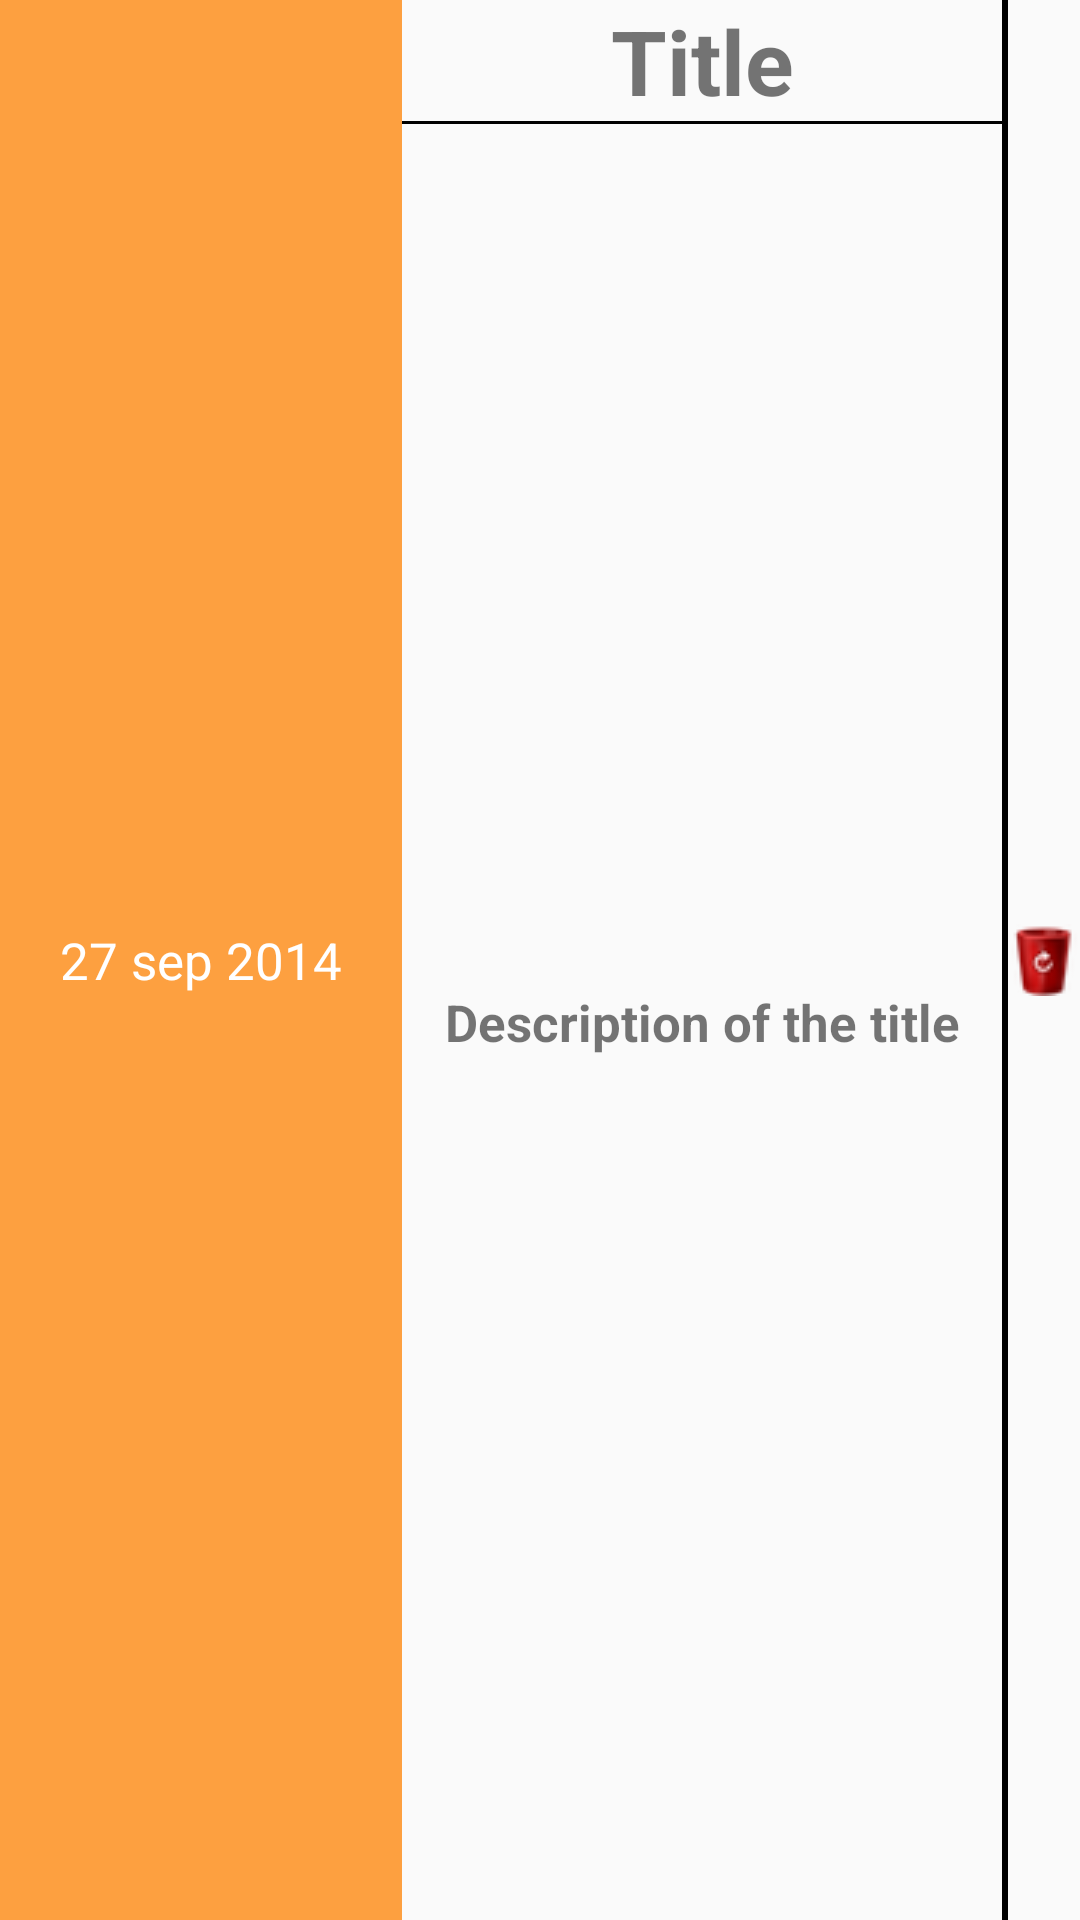

Where to tap for icons on this 1080×1920 app screen, as point (x, y):
recycle: point (1043, 961)
